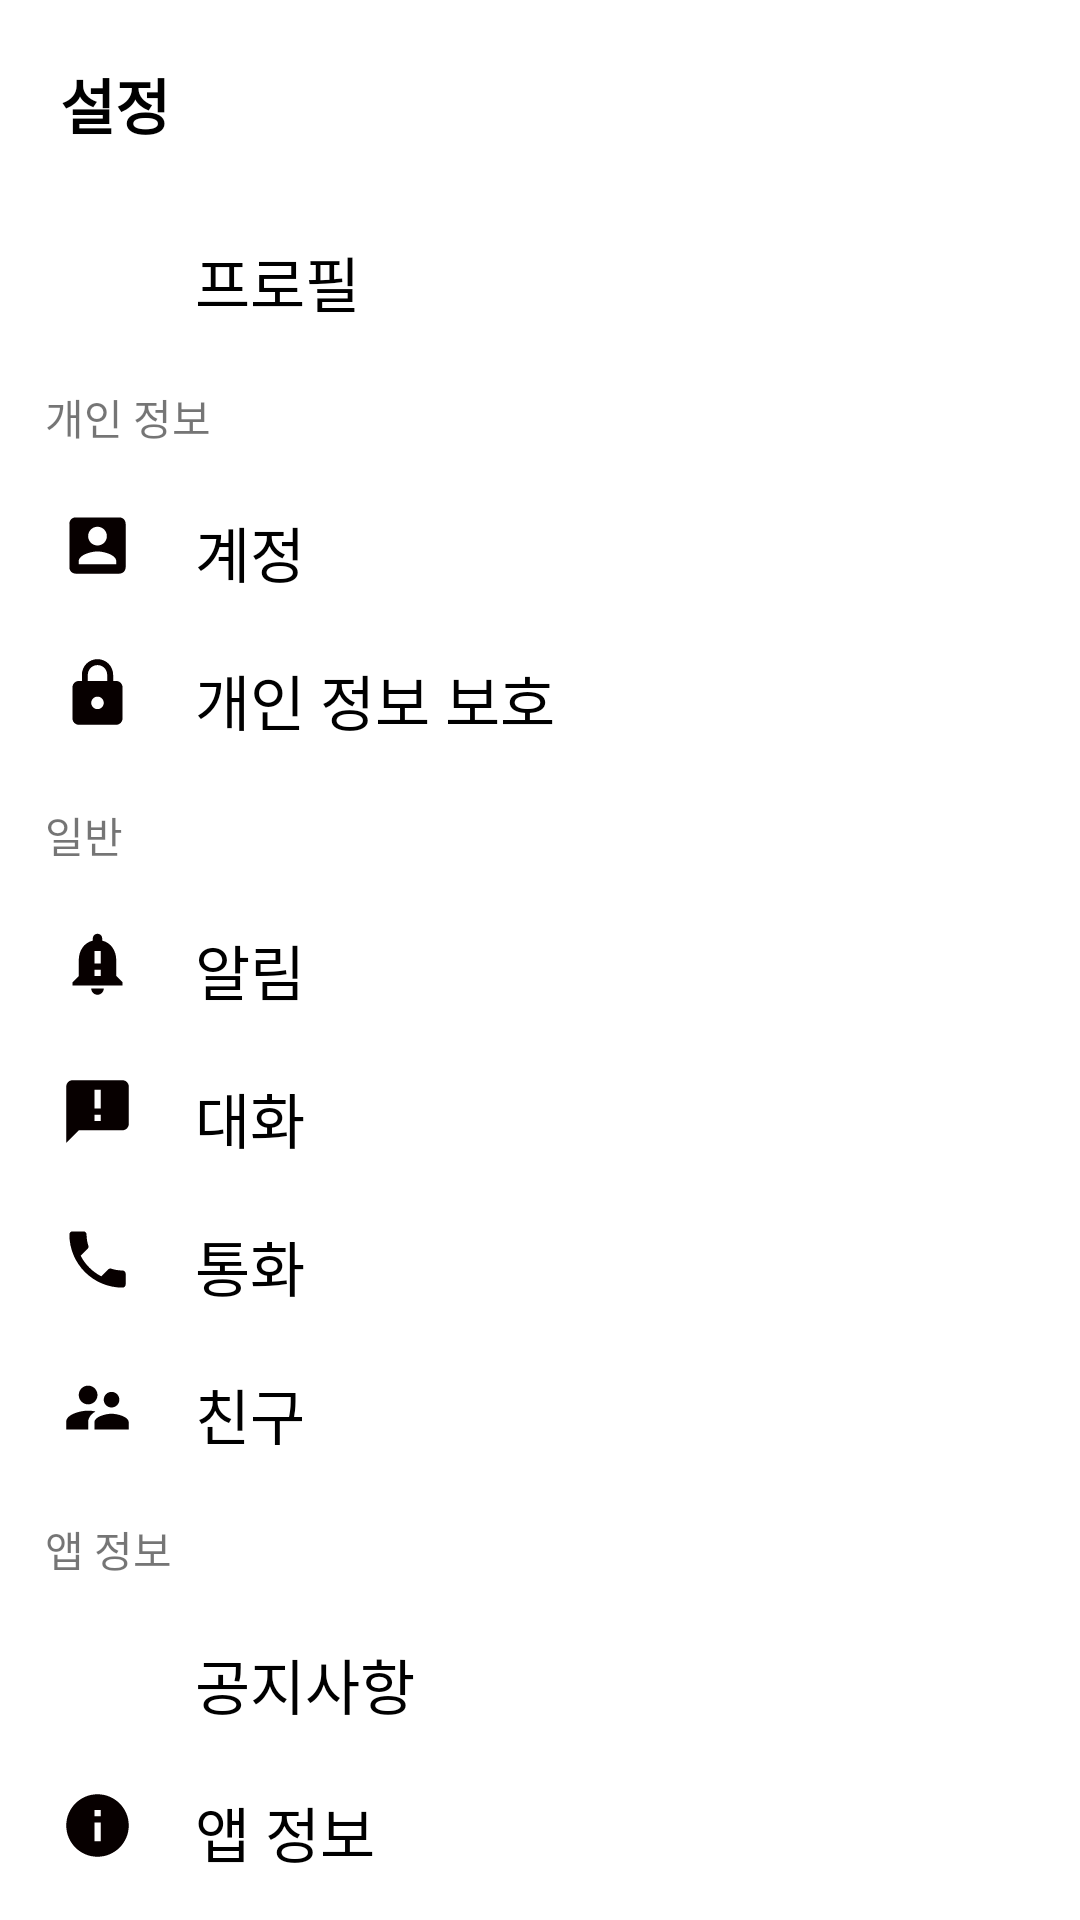

Screen size 1080px×1920px. Icon name, then its box in pixels as box(x1, y1, x2, y2):
account: box(69, 517, 126, 574)
info: box(66, 1794, 129, 1857)
lock: box(72, 659, 123, 725)
message: box(66, 1080, 129, 1143)
phone: box(69, 1231, 126, 1288)
supervisor account: box(66, 1385, 129, 1430)
